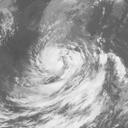cyclone: (30, 40, 102, 108)
